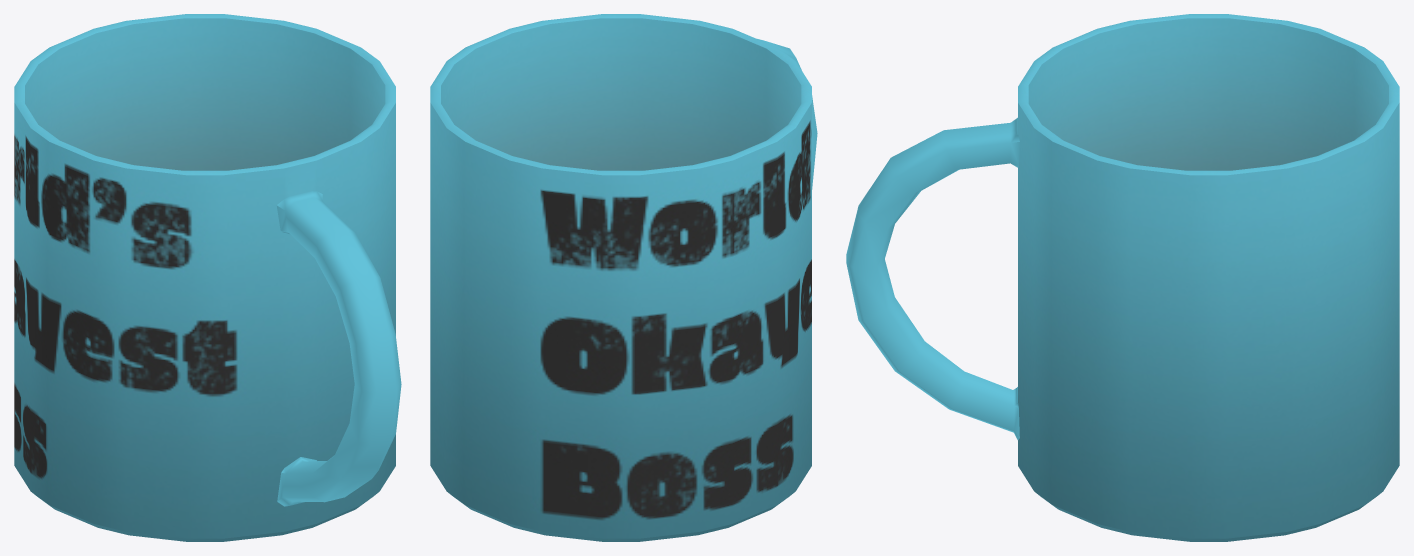
File: MugMesh.glb
The picture shows the model from 3 angles, left to right: view 1: azimuth 30°, elevation 25°; view 2: azimuth 150°, elevation 25°; view 3: azimuth 270°, elevation 25°; orthographic projection.
Visible parts, largest first — view 1: MugMesh; view 2: MugMesh; view 3: MugMesh.
Part boxes in pixels (x1,y1,x2,y2): MugMesh: (14,14,401,541); MugMesh: (430,14,817,541); MugMesh: (846,14,1399,541).
Bounding box in the file's own units: 0.1169 × 0.1257 × 0.1695.
Materials: 1 (1 with a texture image).
